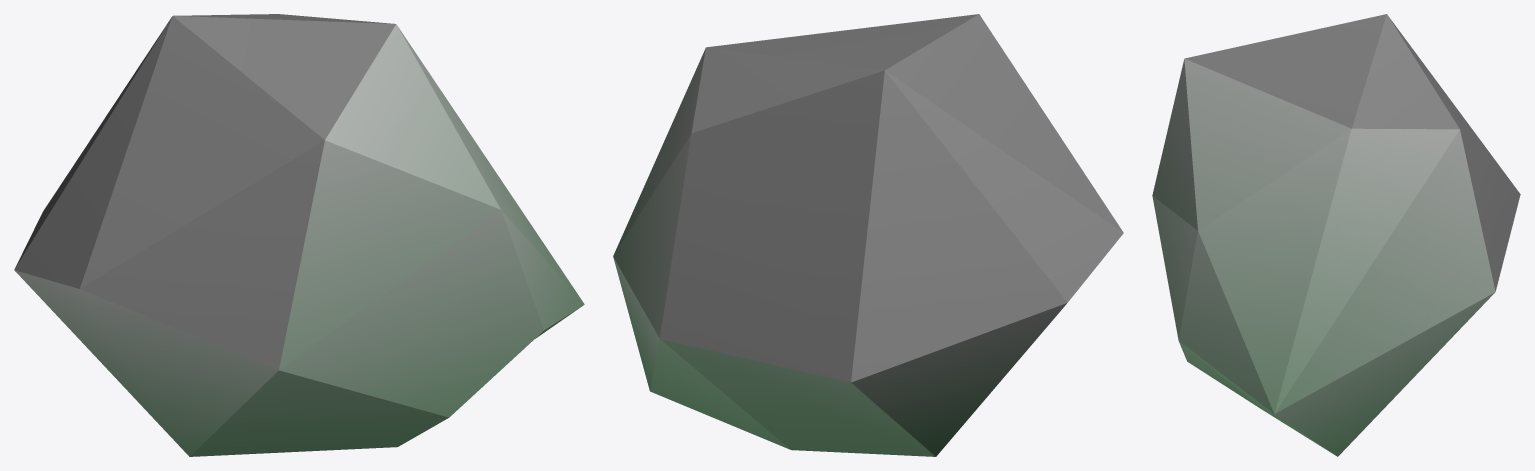
Rendered from rock_medium_mossy.fbx.
3 views of the same model, side by side, from view 1: azimuth 30°, elevation 25°; view 2: azimuth 150°, elevation 25°; view 3: azimuth 270°, elevation 25° (orthographic). The views are drawn at different scales.
Visible parts, largest first — view 1: rock_medium_mossy; view 2: rock_medium_mossy; view 3: rock_medium_mossy.
Part boxes in pixels (x1,y1,x2,y2): rock_medium_mossy: (14, 14, 584, 456); rock_medium_mossy: (613, 14, 1123, 456); rock_medium_mossy: (1152, 14, 1520, 456).
Size of the model in its own units: 0.6402 by 0.4889 by 0.4852.
Materials: 1 (1 with a texture image).
